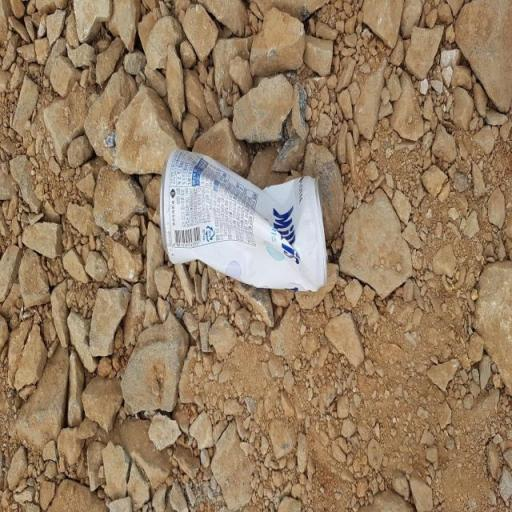metal: (142, 126, 363, 334)
